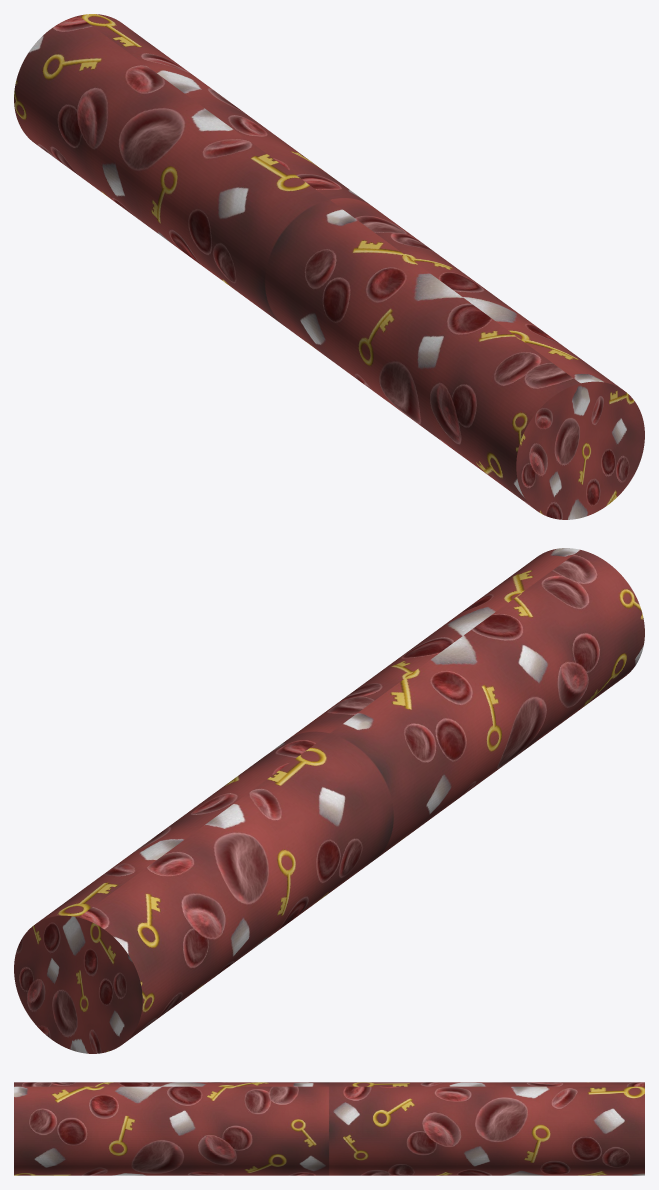
The model's file is Vein.fbx.
3 renders of one model, top to bottom at view 1: azimuth 30°, elevation 25°; view 2: azimuth 150°, elevation 25°; view 3: azimuth 270°, elevation 25°, orthographic. The views are drawn at different scales.
Visible parts, largest first — view 1: Cylinder.001; view 2: Cylinder.001; view 3: Cylinder.001.
Boxes of the visible parts, x1,y1,x2,y2 form: Cylinder.001: (14, 14, 644, 519); Cylinder.001: (14, 548, 644, 1053); Cylinder.001: (14, 1082, 644, 1175).
Size of the model in its own units: 160 by 160 by 1081.
1 material, 1 textured.
